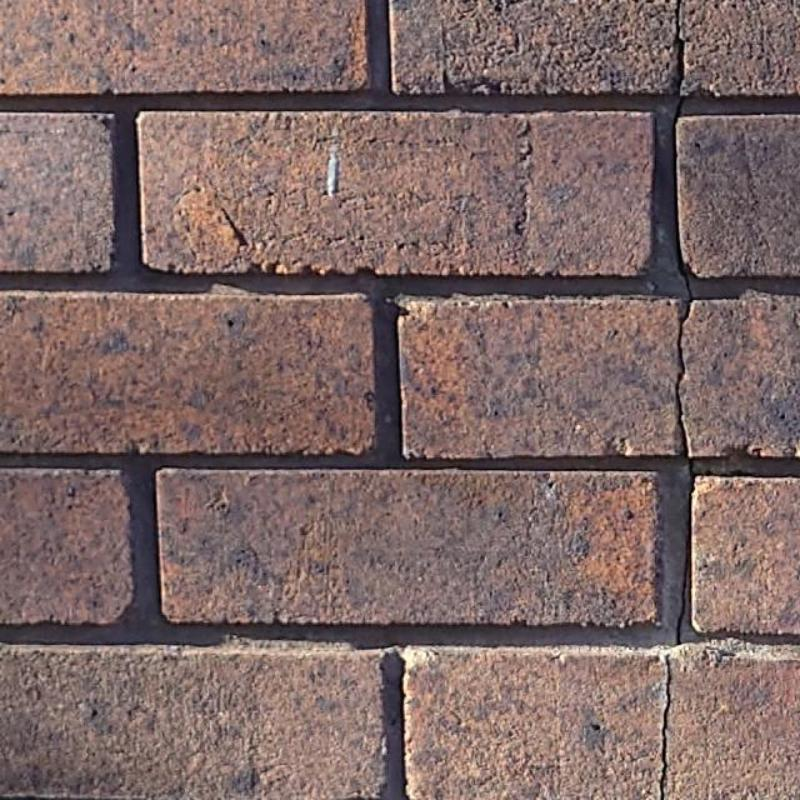crack: (671, 95, 694, 459), (675, 458, 696, 647), (658, 653, 673, 800), (677, 0, 683, 95)
